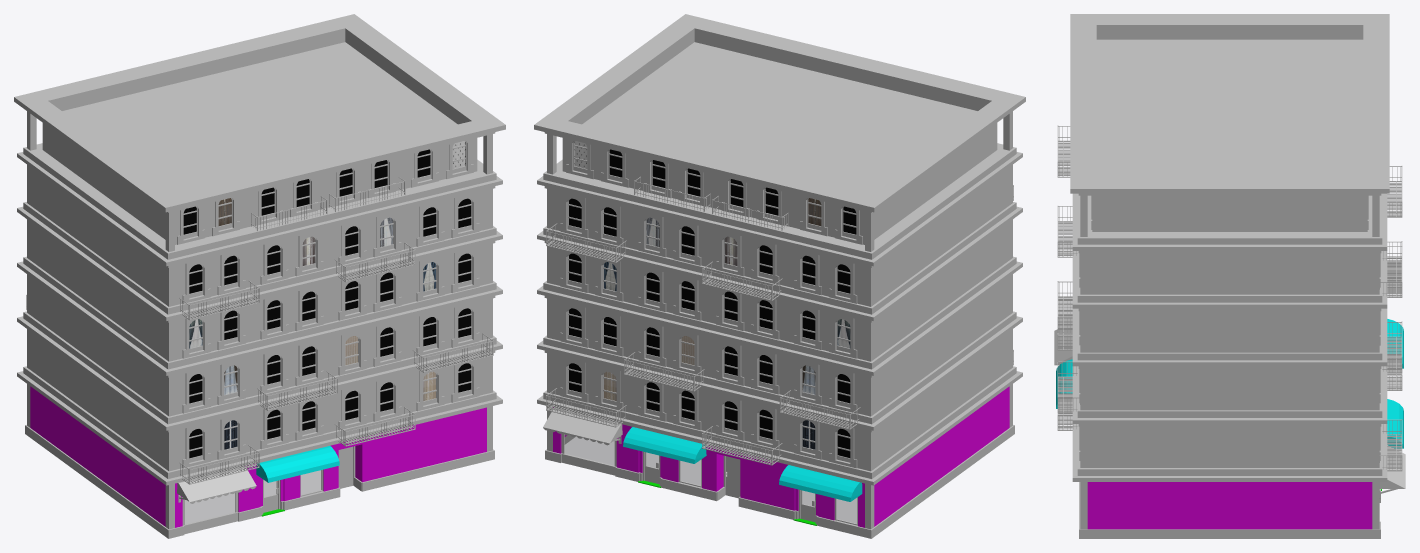
The model's file is Building07_A.fbx.
3 views of the same model, side by side, from view 1: azimuth 30°, elevation 25°; view 2: azimuth 150°, elevation 25°; view 3: azimuth 270°, elevation 25° (orthographic). The views are drawn at different scales.
Parts seen in each view (by area): view 1: Building07_A; view 2: Building07_A; view 3: Building07_A.
Boxes of the visible parts, bbox=[...] form: Building07_A: bbox=[14, 14, 505, 538]; Building07_A: bbox=[534, 14, 1025, 538]; Building07_A: bbox=[1054, 14, 1405, 538].
Size of the model in its own units: 2511 by 2367 by 2131.
